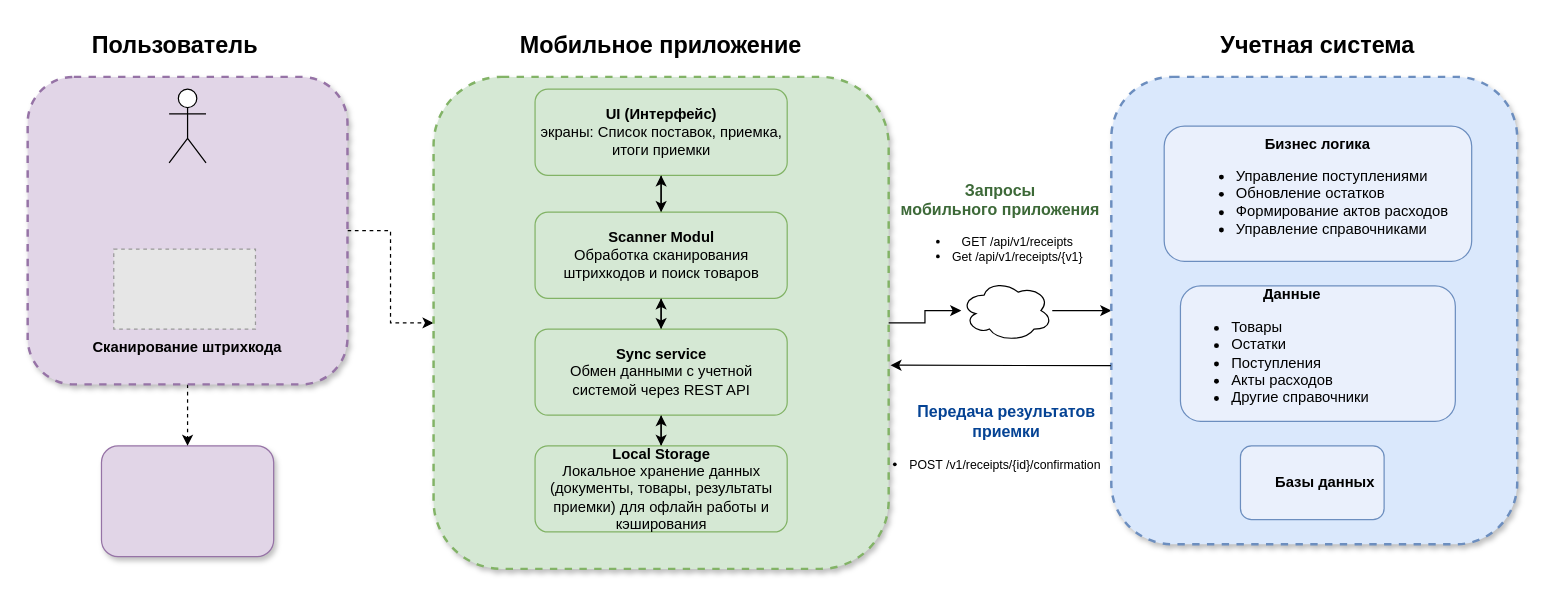
The diagram is 1546 pixels wide and 599 high, and some of its shapes have lost their labels. Grey dashed boxes stand in for pictures. Each missing label, with the centre of its shape:
REST API HTTPS: (1006,310)
Камера / ТСД (Сканер штрихкодов): (188,502)
Сотрудник склада: (187,125)
